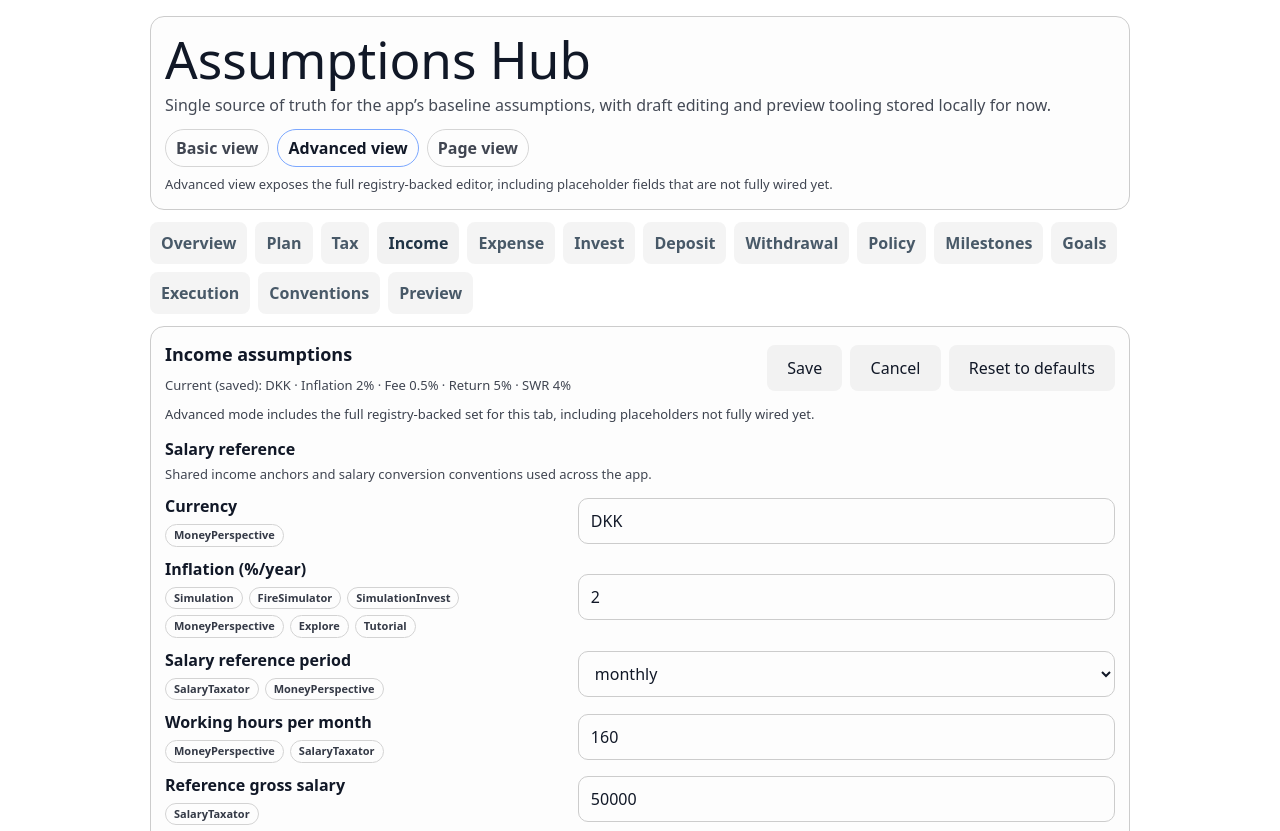
Test: AssumptionsHubPage › switches between tabs and view modes
Expected: the field labelled "Currency" is shown, [578,498,1115,544]
Expected: the number field labelled "Reference gross salary" is shown, [578,776,1115,822]
Click the tab "Deposit".
click(685, 243)  # box [643,222,726,264]
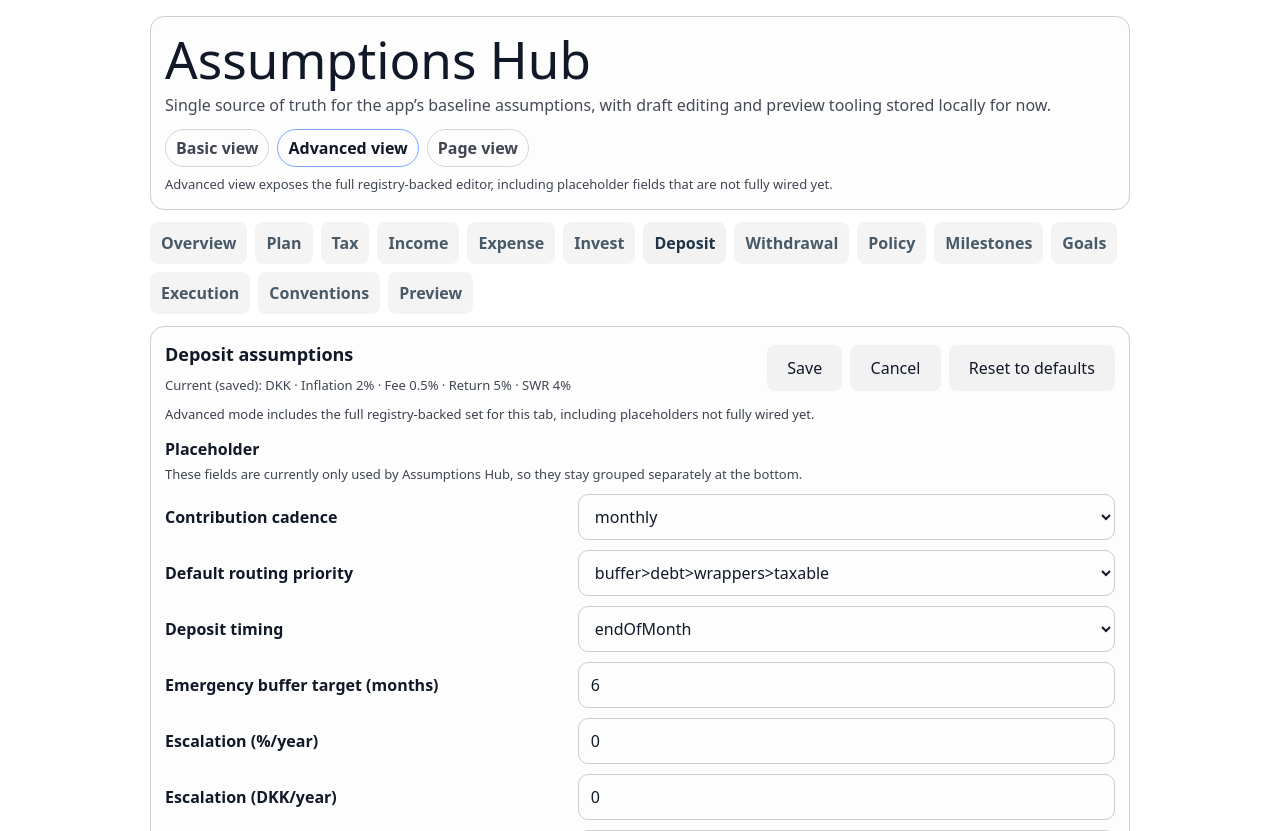
Expected: the dropdown labelled "Deposit timing" is shown, [578,606,1115,652]
Expected: the number field labelled "Emergency buffer target (months)" is shown, [578,662,1115,708]
Click the button "Basic view".
click(217, 148)  # box [165,129,270,167]
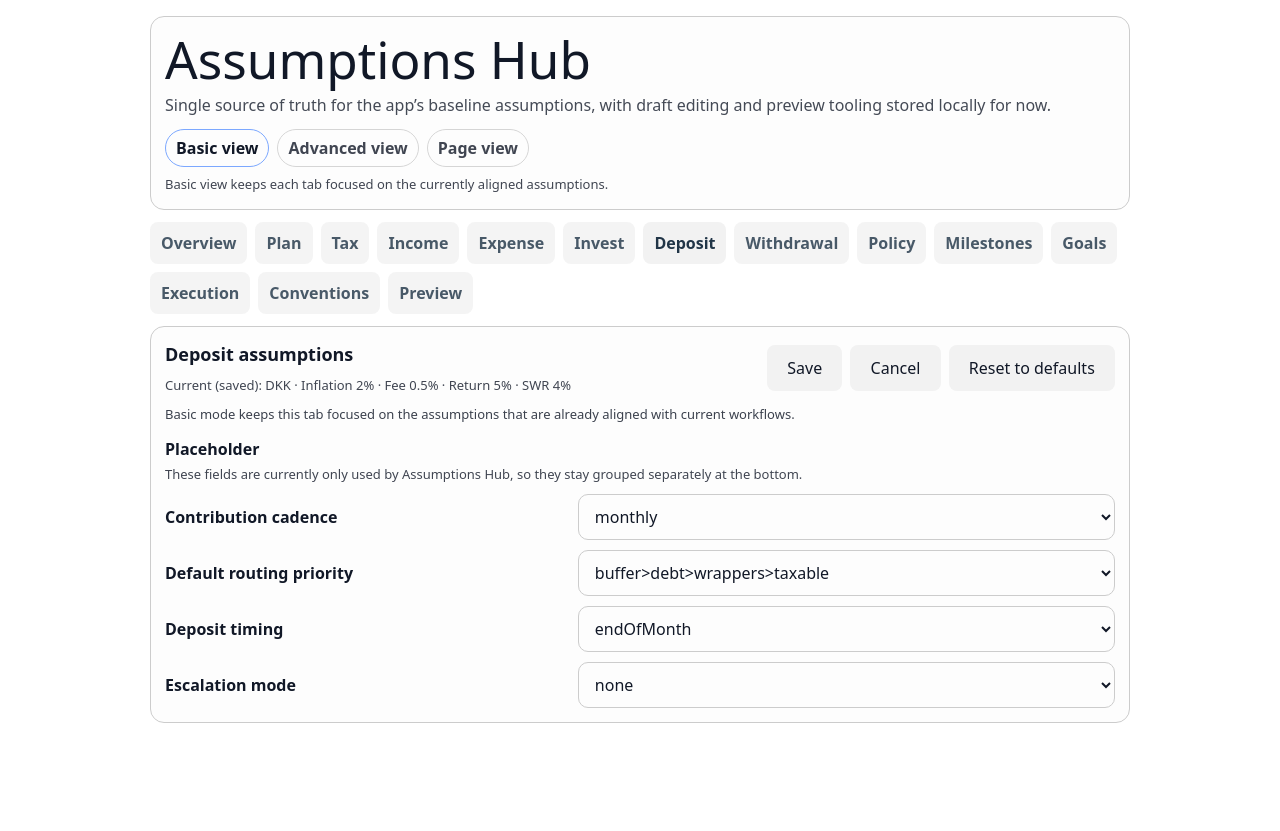
Expected: the text labelled "Emergency buffer target (months)" is gone
